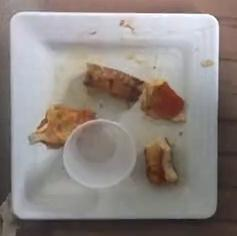pizza: (142, 81, 184, 120)
pizza_crust: (28, 103, 94, 147), (82, 63, 144, 108), (145, 139, 178, 184)
